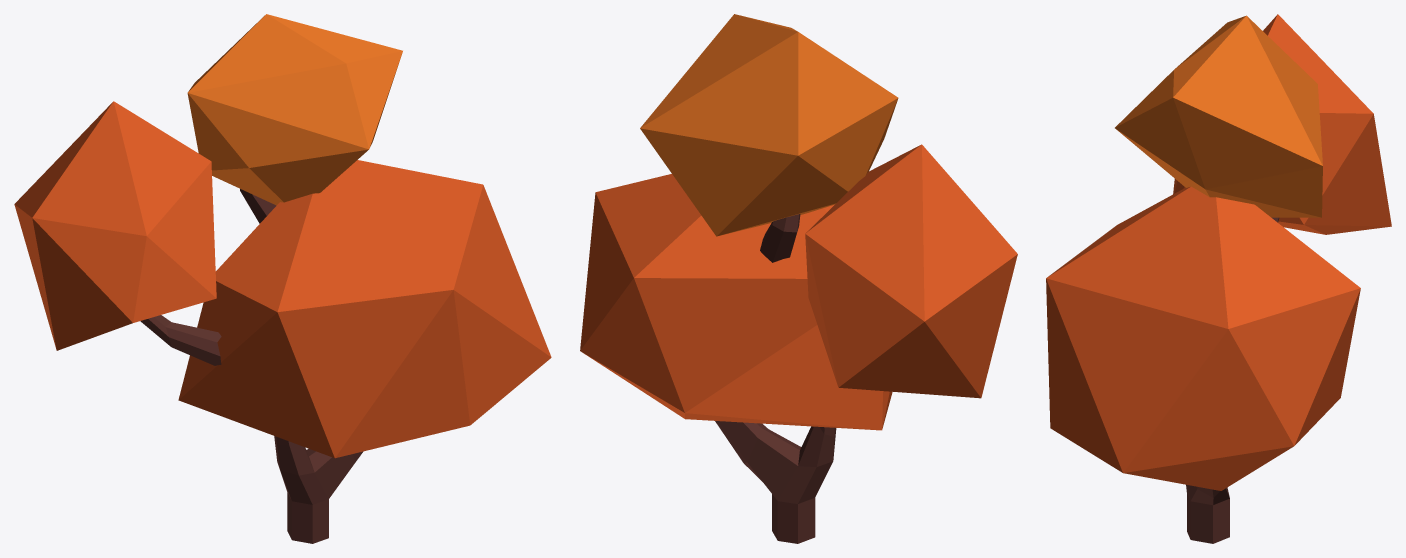
Rendered from bush_1.fbx.
3 views of the same model, side by side, from view 1: azimuth 30°, elevation 25°; view 2: azimuth 150°, elevation 25°; view 3: azimuth 270°, elevation 25° (orthographic). The views are drawn at different scales.
Visible parts, largest first — view 1: bush_1; view 2: bush_1; view 3: bush_1.
Part boxes in pixels (<box>): bush_1: <box>14,14,551,543</box>; bush_1: <box>580,14,1017,543</box>; bush_1: <box>1046,14,1391,543</box>.
Size of the model in its own units: 300 by 328 by 203.
